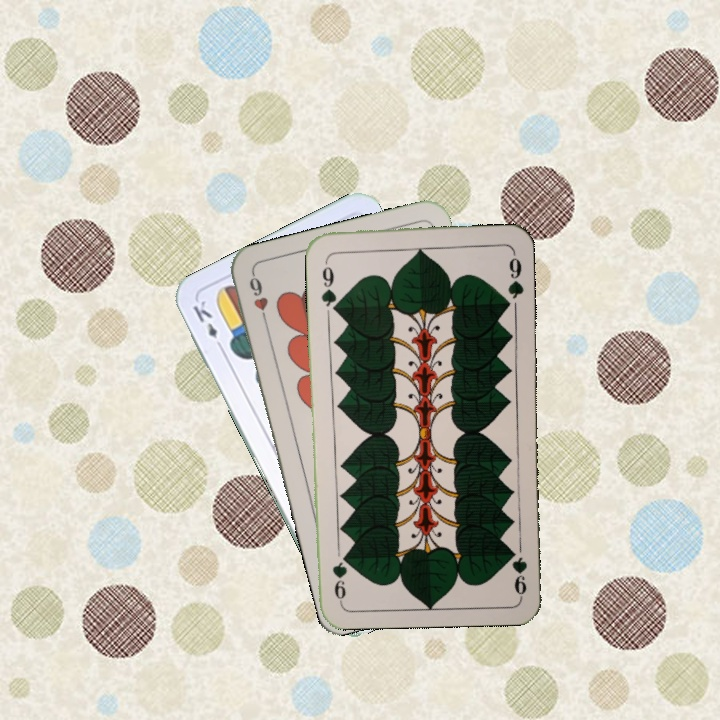EK: (188, 296, 227, 353)
G9: (317, 254, 340, 313), (506, 544, 530, 598)
H9: (245, 270, 271, 328)
